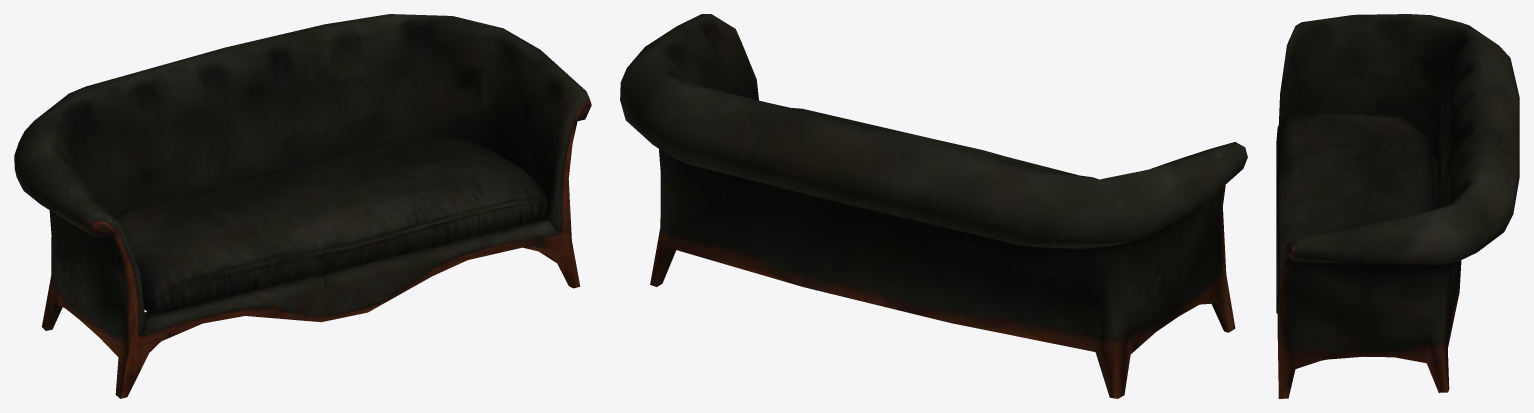
File: sofa2.glb
3 renders of one model, left to right at view 1: azimuth 30°, elevation 25°; view 2: azimuth 150°, elevation 25°; view 3: azimuth 270°, elevation 25°, orthographic. The views are drawn at different scales.
Visible parts, largest first — view 1: sofa2; view 2: sofa2; view 3: sofa2.
Part boxes in pixels (x1=…): sofa2: x1=14, y1=14, x2=591, y2=398; sofa2: x1=620, y1=14, x2=1247, y2=398; sofa2: x1=1276, y1=14, x2=1519, y2=398.
Size of the model in its own units: 1.81 by 0.7095 by 0.8121.
1 material, 1 textured.
